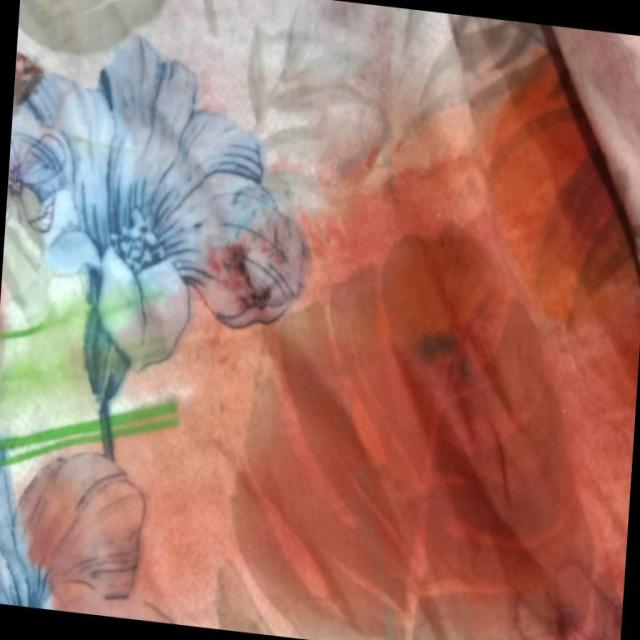baekra: (50, 26, 640, 640)
